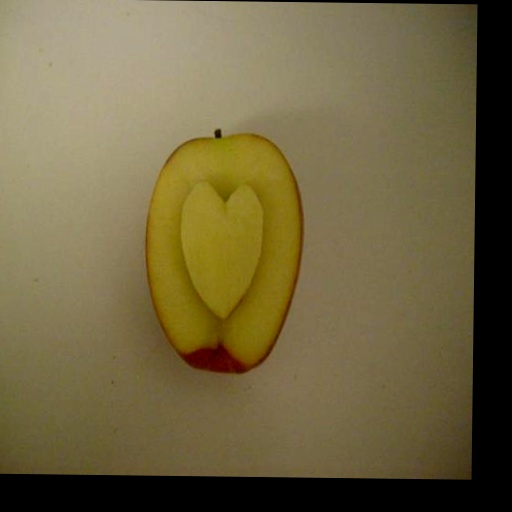fruit: (146, 135, 302, 372)
